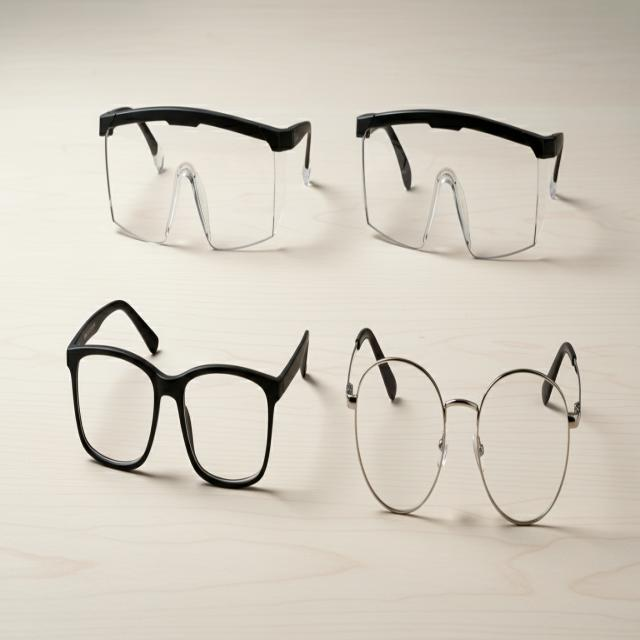oculos-epi: (356, 109, 563, 258), (100, 107, 311, 250)
sem_oculos: (346, 329, 580, 525), (67, 300, 309, 488)
